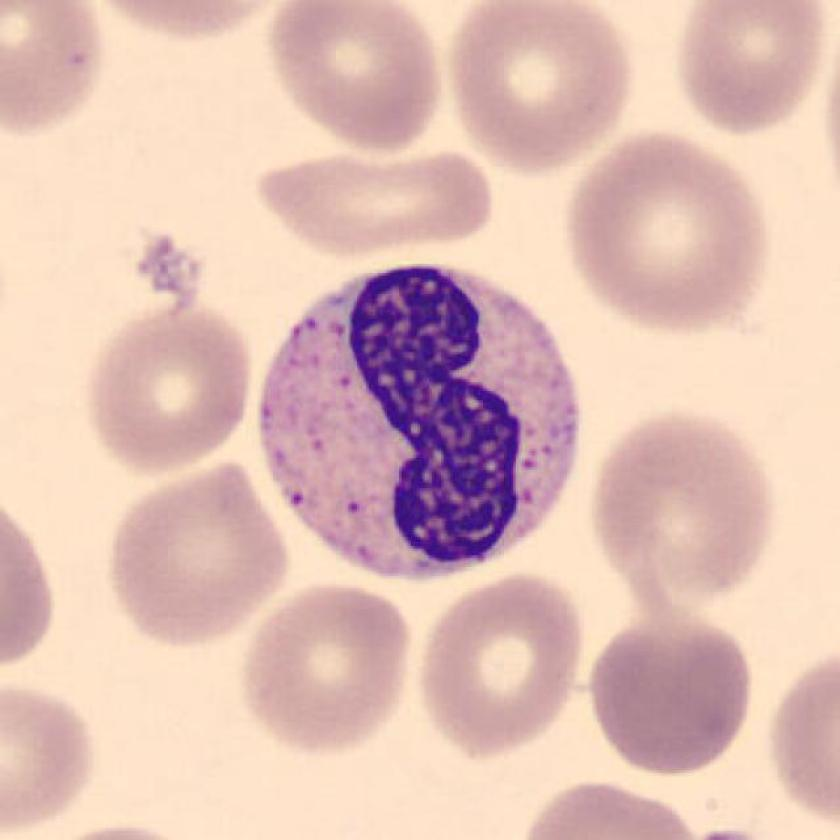neutrophil: (260, 265, 580, 578)
